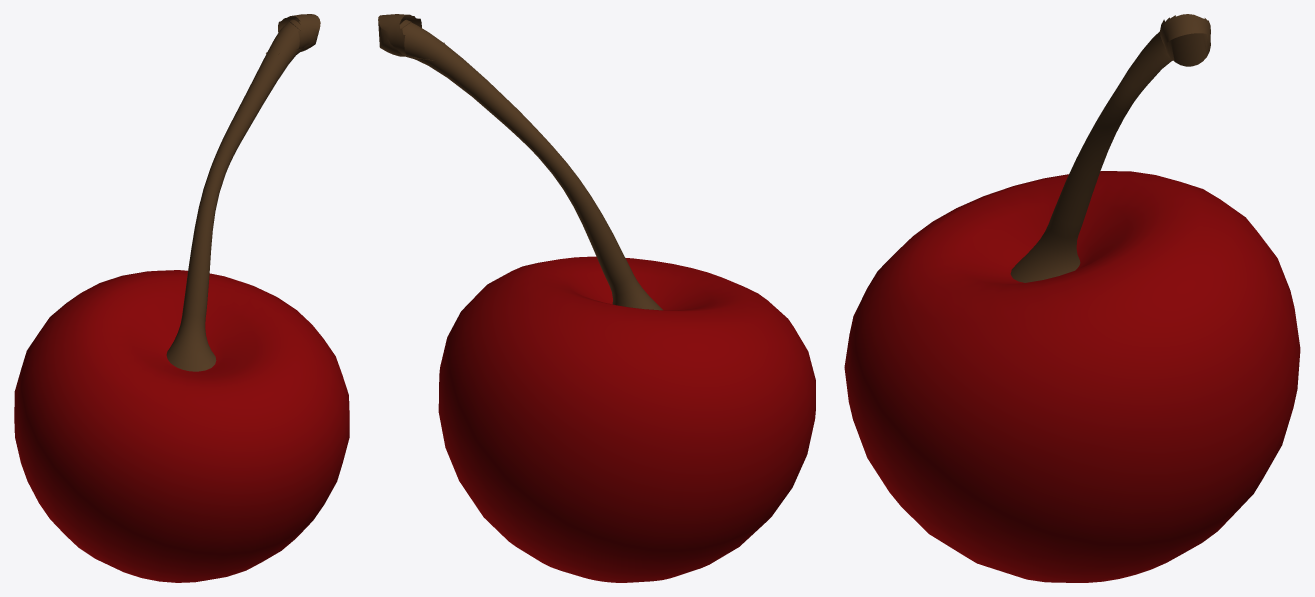
The model's file is cherry2.obj.
3 views of the same model, side by side, from view 1: azimuth 30°, elevation 25°; view 2: azimuth 150°, elevation 25°; view 3: azimuth 270°, elevation 25° (orthographic). The views are drawn at different scales.
Parts seen in each view (by area): view 1: cherry1, cherrystem; view 2: cherry1, cherrystem; view 3: cherry1, cherrystem.
Boxes of the visible parts, <box> form: cherry1: <box>14,270,349,582</box>; cherrystem: <box>166,14,320,371</box>; cherry1: <box>438,256,815,582</box>; cherrystem: <box>378,14,662,310</box>; cherry1: <box>844,171,1300,582</box>; cherrystem: <box>1010,14,1210,282</box>.
Size of the model in its own units: 0.582 by 0.8255 by 0.5235.
